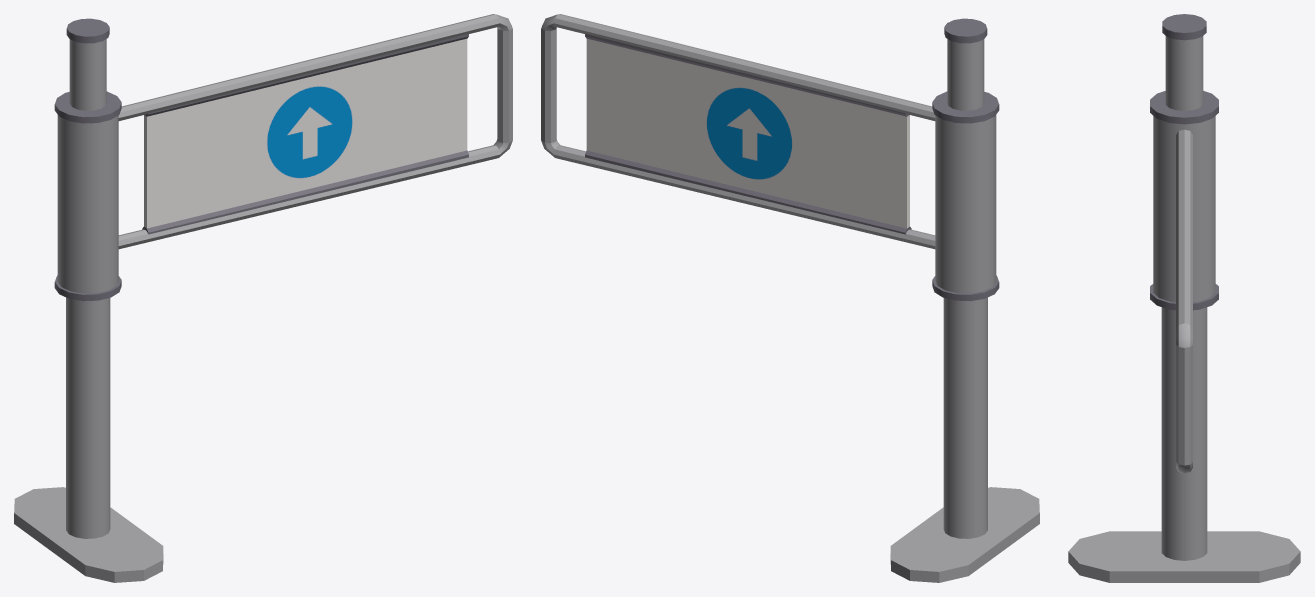
Rendered from RotatingDoor_Textured_v1.fbx.
The picture shows the model from 3 angles, left to right: view 1: azimuth 30°, elevation 25°; view 2: azimuth 150°, elevation 25°; view 3: azimuth 270°, elevation 25°; orthographic projection. The views are drawn at different scales.
Visible parts, largest first — view 1: pCube5, pCylinder7, pCylinder8, pCylinder9; view 2: pCube5, pCylinder7, pCylinder8, pCylinder9; view 3: pCylinder7, pCylinder9, pCylinder8.
Part boxes in pixels (x1,y1,x2,y2): pCube5: [142, 34, 468, 234]; pCylinder7: [54, 18, 121, 538]; pCylinder8: [118, 14, 512, 249]; pCylinder9: [14, 487, 163, 582]; pCube5: [585, 34, 911, 234]; pCylinder7: [932, 18, 999, 538]; pCylinder8: [541, 14, 935, 249]; pCylinder9: [890, 487, 1039, 582]; pCylinder7: [1150, 14, 1218, 560]; pCylinder9: [1068, 531, 1300, 582]; pCylinder8: [1176, 129, 1192, 473].
Bounding box in the file's own units: 4.33 × 4.59 × 1.79.
